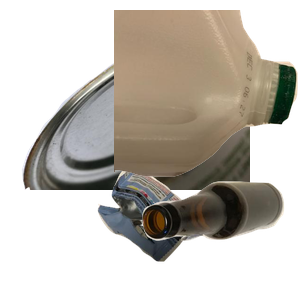glass: (140, 179, 300, 300)
metal: (19, 22, 259, 202)
plastic: (114, 10, 300, 179)
trash: (95, 157, 282, 300)
